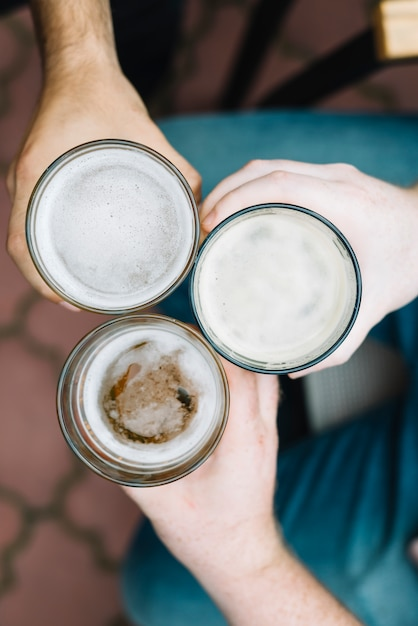alcohol: (54, 317, 232, 488), (191, 202, 364, 377), (26, 140, 201, 313)
